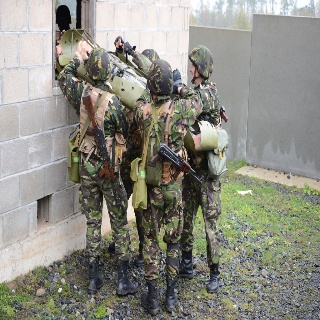rifle: (80, 94, 125, 203), (151, 141, 203, 187)
